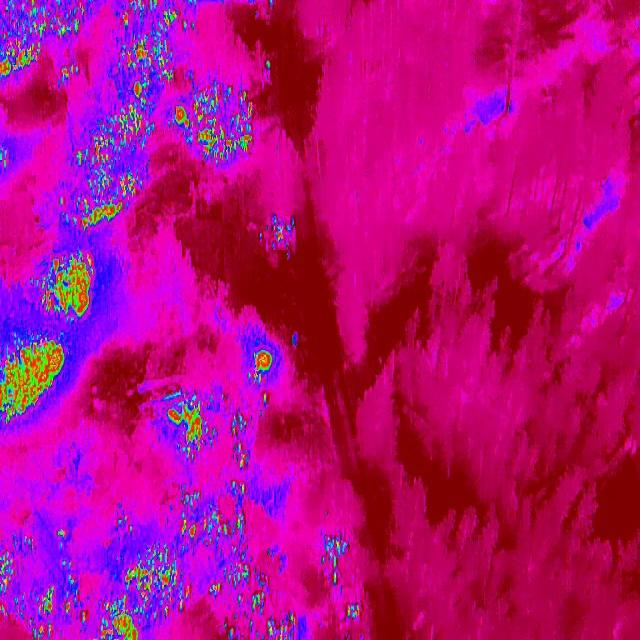fire: (70, 89, 154, 230), (93, 542, 191, 640), (0, 0, 89, 91), (170, 76, 259, 166), (206, 566, 301, 640), (119, 2, 185, 100), (1, 332, 67, 426), (36, 246, 98, 324), (176, 490, 247, 550), (165, 392, 222, 466), (320, 535, 367, 623), (17, 581, 87, 640), (242, 338, 285, 404), (230, 406, 259, 476), (0, 545, 17, 616), (268, 214, 297, 254), (51, 523, 72, 543), (265, 56, 275, 74)
